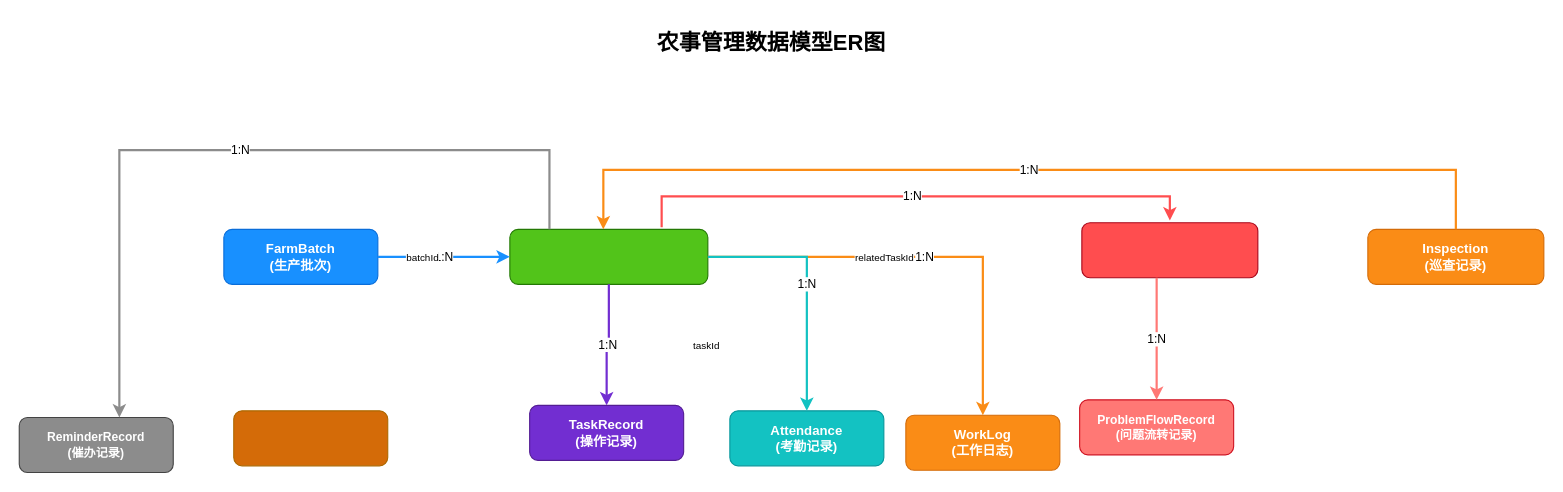
Image size: 1563x492. Some labels were removed from this diagram. Each missing label, with the box of its shape:
Problem (问题记录): (1081, 222, 1258, 278)
Task (任务表): (509, 228, 708, 284)
TempTask (临时任务): (233, 410, 388, 466)
